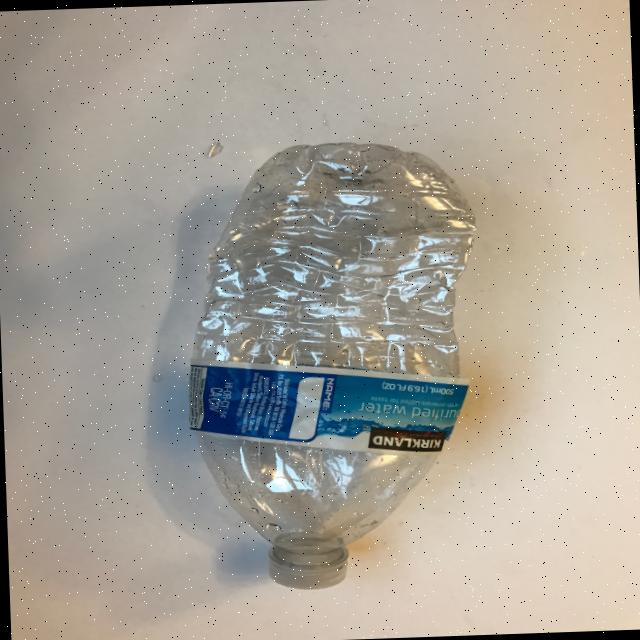plastic: (177, 136, 488, 592)
